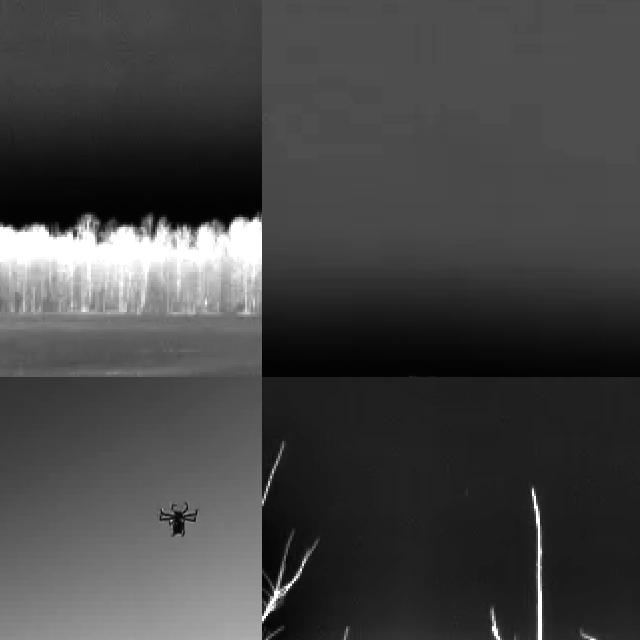0: (454, 476, 482, 511)
drone: (159, 494, 203, 547)
